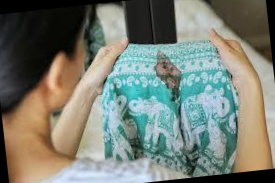blood: (153, 48, 183, 95)
